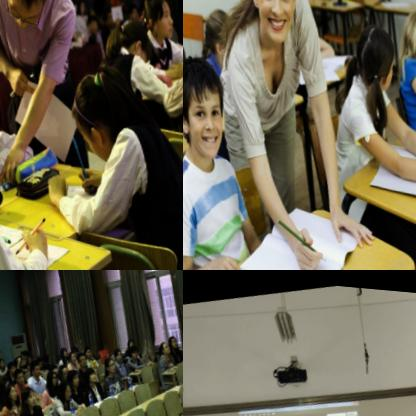head: (62, 56, 151, 166), (183, 46, 238, 159), (345, 4, 406, 92), (112, 8, 165, 76), (196, 0, 248, 69), (240, 0, 312, 44), (0, 0, 66, 38), (138, 0, 182, 42), (399, 0, 416, 66), (21, 380, 43, 408), (5, 379, 26, 402), (60, 373, 79, 397), (70, 363, 87, 387), (86, 360, 104, 382), (86, 8, 103, 30), (124, 0, 143, 18), (104, 351, 121, 371), (1, 372, 16, 394), (161, 332, 176, 353), (48, 363, 63, 384), (16, 364, 31, 384), (33, 356, 47, 374), (79, 345, 92, 363), (169, 327, 183, 343), (62, 358, 74, 376), (131, 338, 143, 355), (117, 342, 129, 358), (71, 347, 83, 363), (52, 358, 64, 373), (43, 346, 54, 361), (62, 341, 73, 355), (128, 332, 139, 345), (87, 339, 97, 353), (39, 350, 49, 364), (10, 358, 20, 372), (0, 354, 10, 368), (24, 345, 34, 358), (74, 340, 82, 352), (29, 350, 36, 360)
